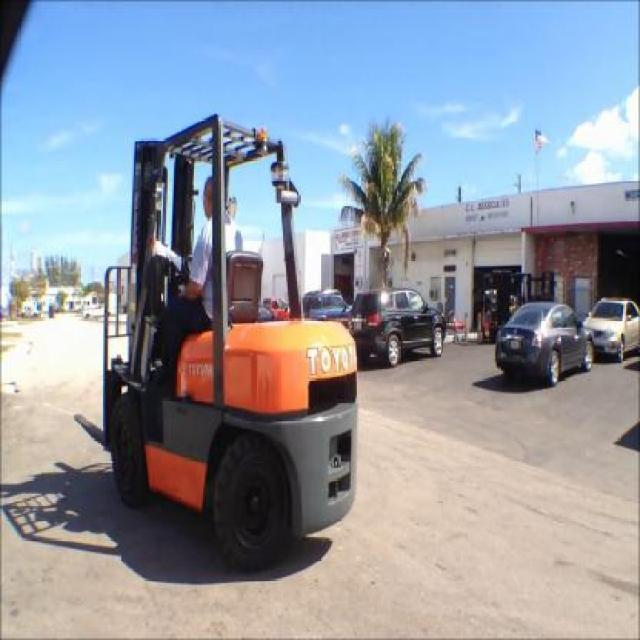forklift: (72, 113, 361, 567)
